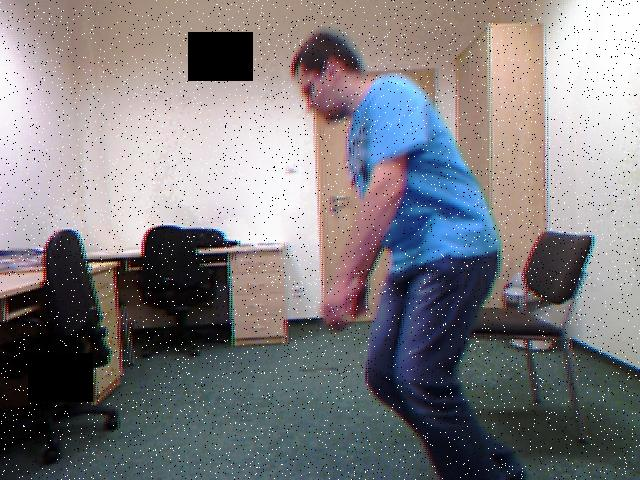near-fall: (283, 20, 533, 480)
